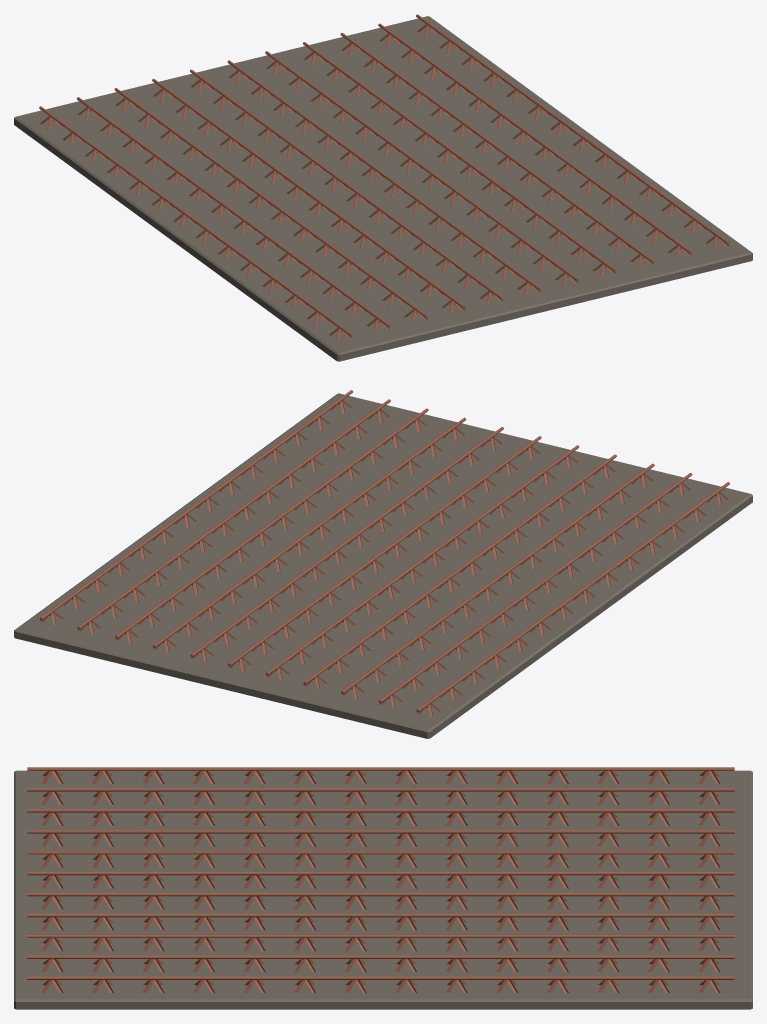
3 renders of one model, top to bottom at view 1: azimuth 30°, elevation 25°; view 2: azimuth 150°, elevation 25°; view 3: azimuth 270°, elevation 25°, orthographic. The views are drawn at different scales.
Visible parts, largest first — view 1: Decke 9; view 2: Decke 9; view 3: Decke 9.
Boxes of the visible parts, x1,y1,x2,y2 form: Decke 9: [14, 14, 752, 361]; Decke 9: [14, 390, 752, 738]; Decke 9: [14, 767, 752, 1009].
Size of the model in its own units: 3.31 by 0.1458 by 4.48.
